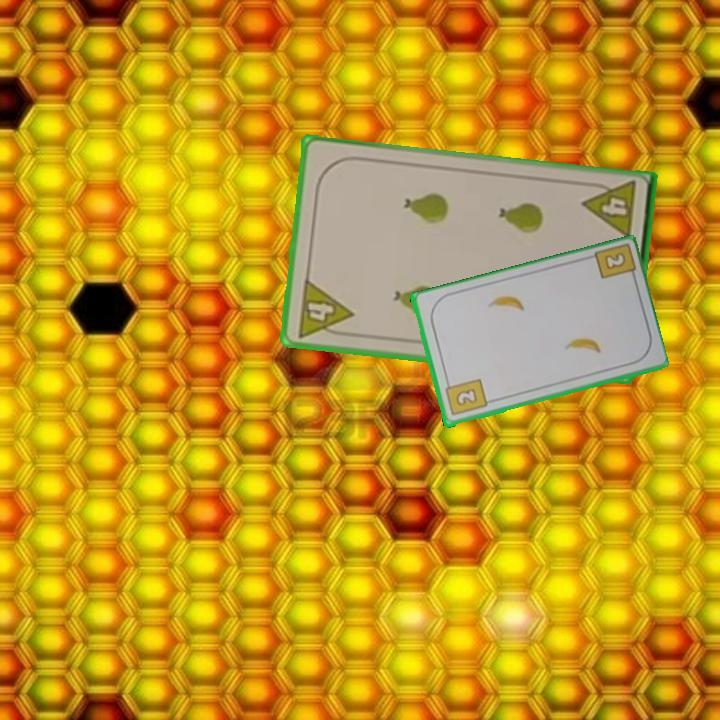2b: (589, 242, 638, 285), (441, 376, 489, 419)
4p: (293, 275, 356, 341), (579, 177, 639, 243)
